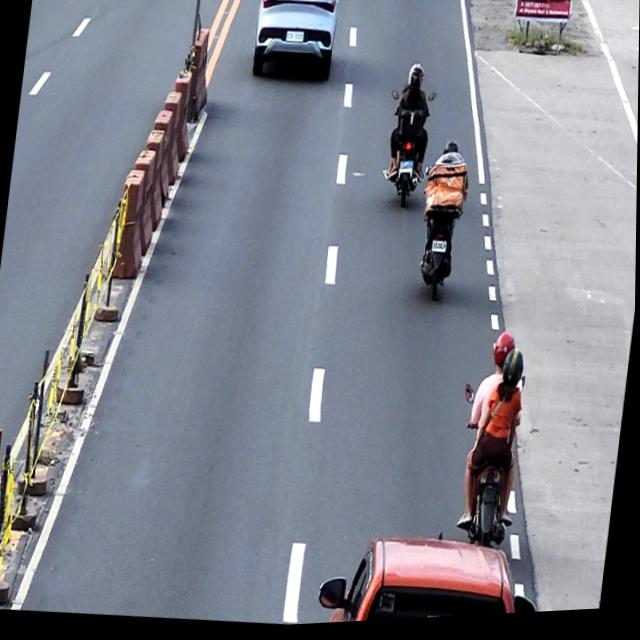Car: (316, 523, 546, 627), (246, 0, 343, 87)
License-Plate: (284, 31, 305, 47), (399, 162, 415, 178), (431, 243, 448, 258)
Motorcycle: (447, 385, 526, 556), (409, 167, 472, 308), (378, 90, 437, 215)
